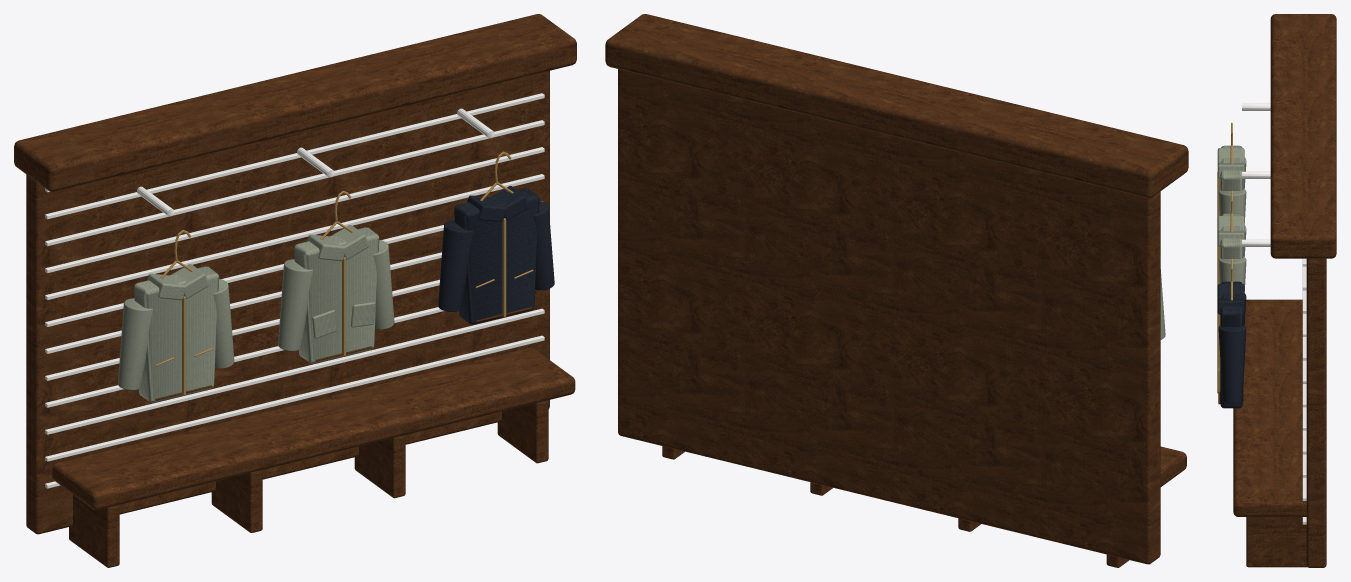
Rendered from willow_wall_apparel_display.glb.
3 renders of one model, left to right at view 1: azimuth 30°, elevation 25°; view 2: azimuth 150°, elevation 25°; view 3: azimuth 270°, elevation 25°, orthographic. The views are drawn at different scales.
Visible parts, largest first — view 1: willow_wall_apparel_display_willow_dark_oak_pbr, willow_wall_apparel_display_willow_worn_oak_pbr, willow_wall_apparel_display_willow_blackened_steel_pbr, willow_wall_apparel_display_willow_dark_denim_pbr, willow_wall_apparel_display_willow_rust_corduroy_pbr, willow_wall_apparel_display_willow_forest_corduroy_pbr, willow_wall_apparel_display_willow_aged_brass_pbr; view 2: willow_wall_apparel_display_willow_dark_oak_pbr, willow_wall_apparel_display_willow_worn_oak_pbr; view 3: willow_wall_apparel_display_willow_worn_oak_pbr, willow_wall_apparel_display_willow_dark_oak_pbr, willow_wall_apparel_display_willow_dark_denim_pbr, willow_wall_apparel_display_willow_blackened_steel_pbr, willow_wall_apparel_display_willow_forest_corduroy_pbr, willow_wall_apparel_display_willow_rust_corduroy_pbr, willow_wall_apparel_display_willow_aged_brass_pbr.
Part boxes in pixels (box(x1,y1,x2,y2)): willow_wall_apparel_display_willow_dark_oak_pbr: box(26, 70, 549, 567); willow_wall_apparel_display_willow_worn_oak_pbr: box(14, 14, 576, 509); willow_wall_apparel_display_willow_blackened_steel_pbr: box(45, 93, 544, 488); willow_wall_apparel_display_willow_dark_denim_pbr: box(438, 186, 554, 324); willow_wall_apparel_display_willow_rust_corduroy_pbr: box(278, 225, 394, 363); willow_wall_apparel_display_willow_forest_corduroy_pbr: box(118, 264, 234, 402); willow_wall_apparel_display_willow_aged_brass_pbr: box(155, 151, 533, 395); willow_wall_apparel_display_willow_dark_oak_pbr: box(618, 69, 1160, 567); willow_wall_apparel_display_willow_worn_oak_pbr: box(605, 14, 1188, 486); willow_wall_apparel_display_willow_worn_oak_pbr: box(1233, 14, 1336, 516); willow_wall_apparel_display_willow_dark_oak_pbr: box(1246, 258, 1326, 567); willow_wall_apparel_display_willow_dark_denim_pbr: box(1217, 281, 1246, 408); willow_wall_apparel_display_willow_blackened_steel_pbr: box(1242, 103, 1306, 524); willow_wall_apparel_display_willow_forest_corduroy_pbr: box(1217, 145, 1246, 222); willow_wall_apparel_display_willow_rust_corduroy_pbr: box(1217, 213, 1246, 290); willow_wall_apparel_display_willow_aged_brass_pbr: box(1217, 122, 1232, 393).
Bounding box in the file's own units: 3.7 × 2.68 × 0.8312.
Materials: 8 (7 with a texture image).
